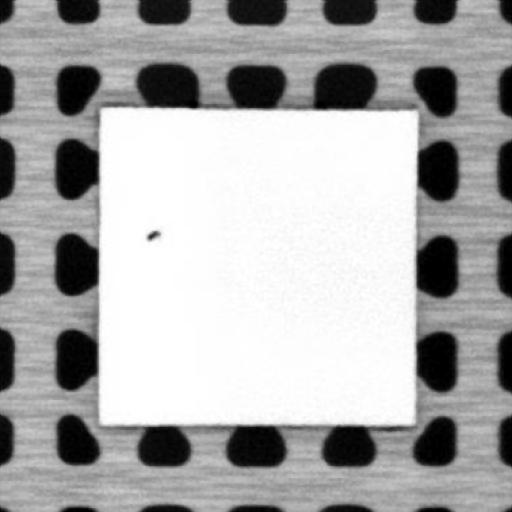DIE_INK: (143, 224, 160, 240)
